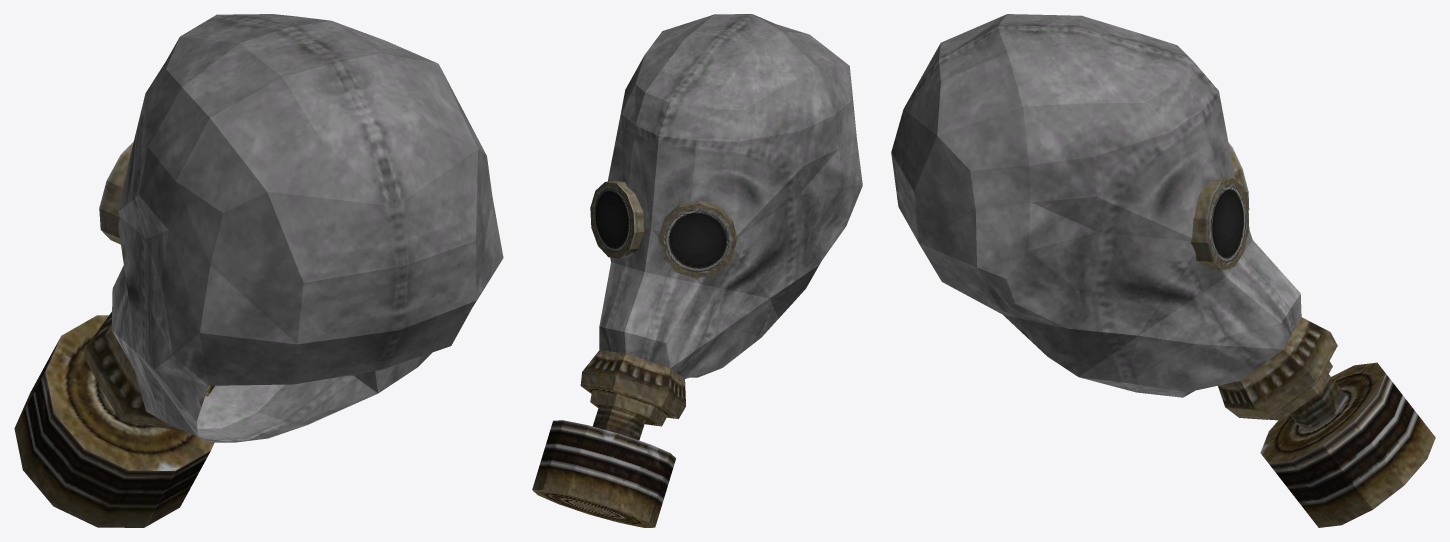
The model's file is mask3.fbx.
3 views of the same model, side by side, from view 1: azimuth 30°, elevation 25°; view 2: azimuth 150°, elevation 25°; view 3: azimuth 270°, elevation 25° (orthographic). The views are drawn at different scales.
Visible parts, largest first — view 1: Object_1.003; view 2: Object_1.003; view 3: Object_1.003.
Boxes of the visible parts, x1,y1,x2,y2 form: Object_1.003: (14,14,503,527); Object_1.003: (532,14,862,527); Object_1.003: (891,14,1435,527).
Bounding box in the file's own units: 18.48 × 34.31 × 34.55.
